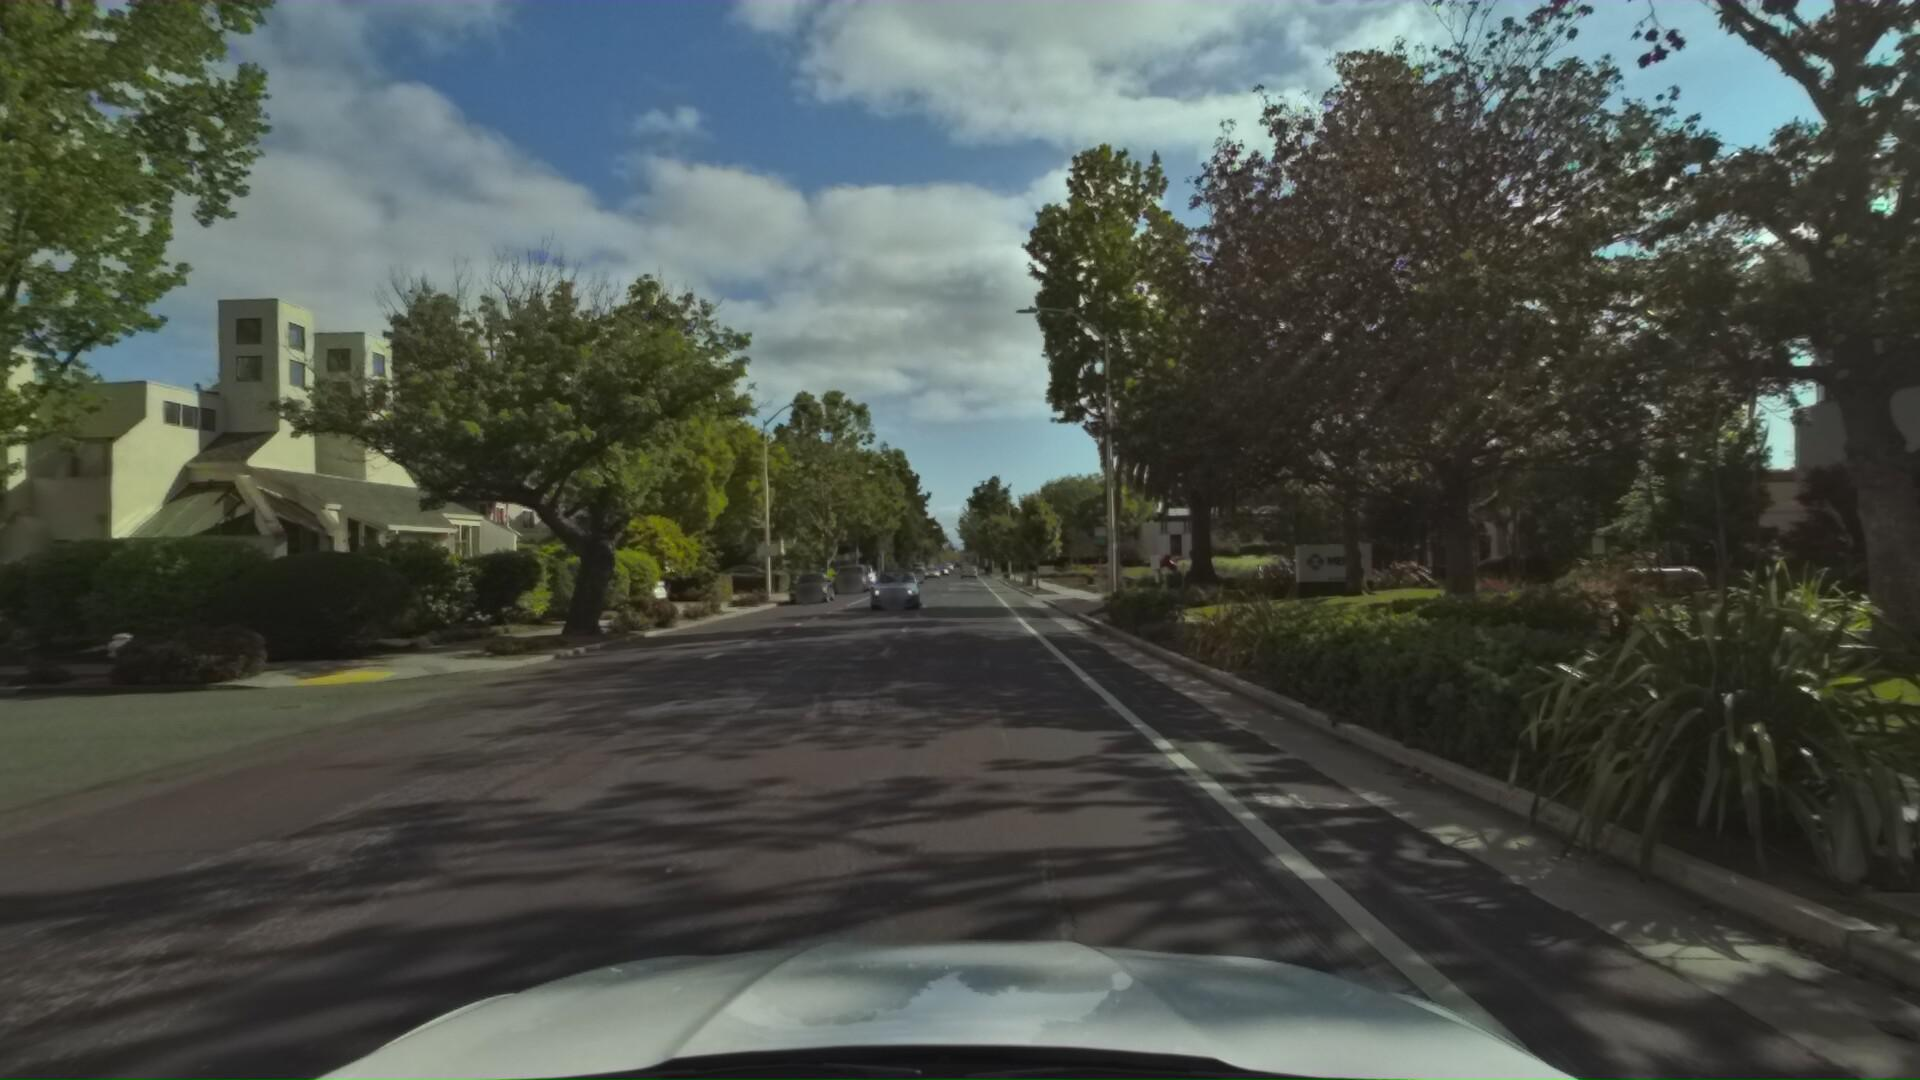car: (542, 567, 670, 611), (862, 563, 919, 611), (783, 568, 836, 607), (831, 560, 872, 596), (843, 562, 876, 589)
